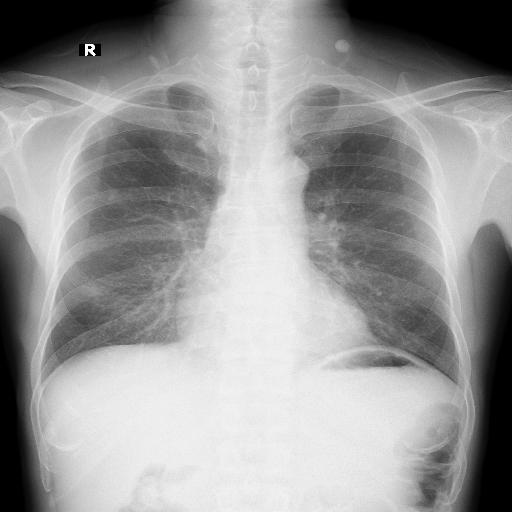Pleural thickening: (308, 68, 370, 98), (82, 74, 142, 94)
